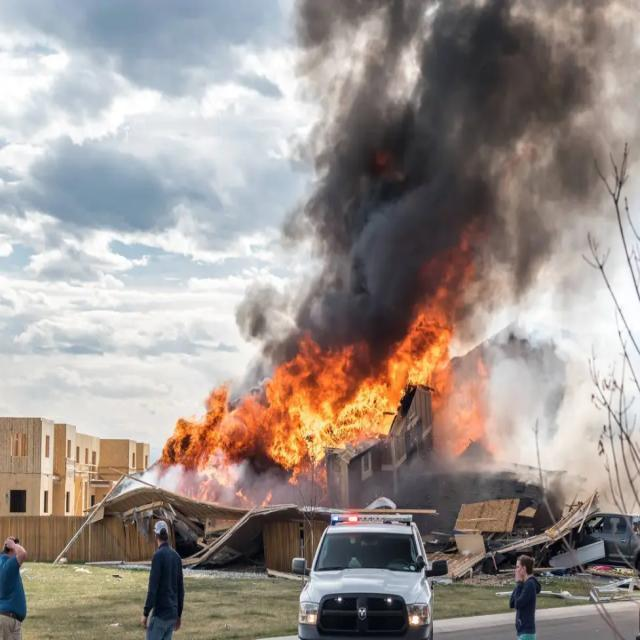fire: (256, 338, 476, 461), (154, 374, 263, 502)
